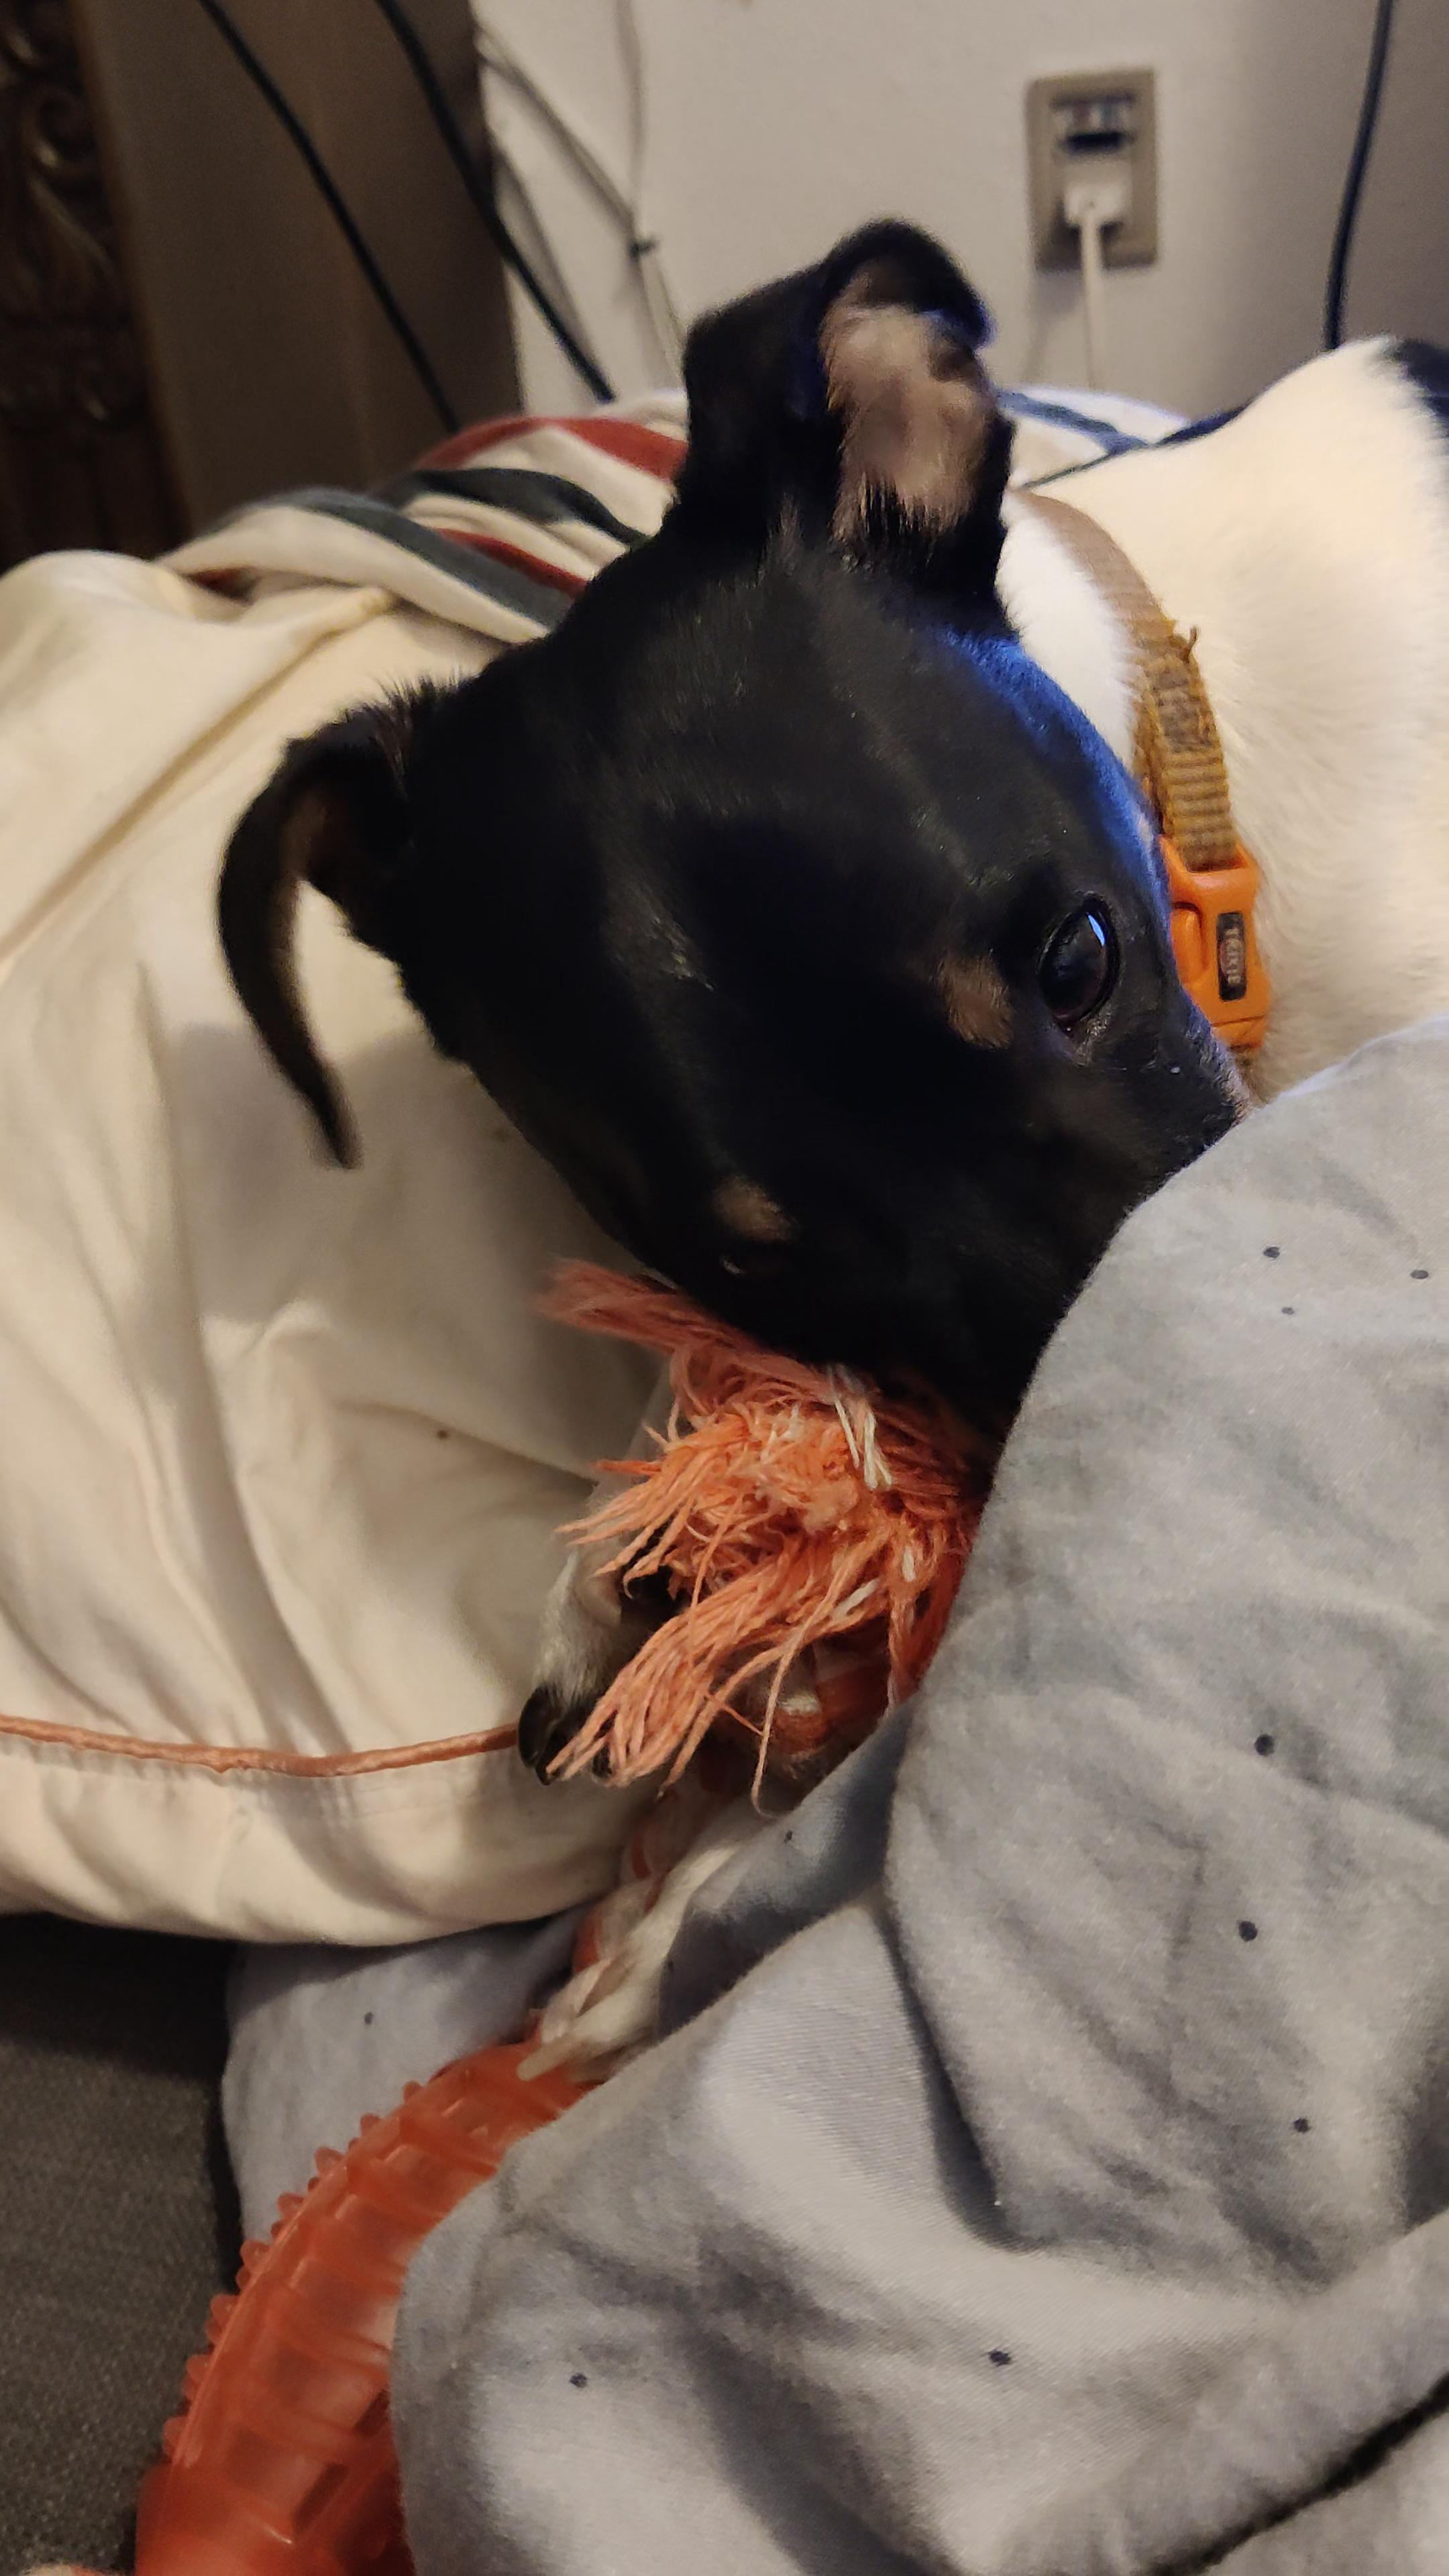Dog: (200, 200, 1449, 2118)
